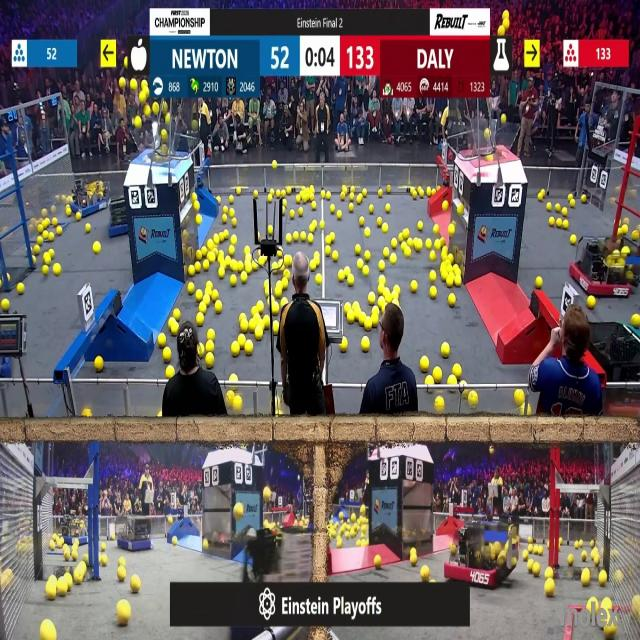ball_airborne: (264, 488, 272, 502), (139, 92, 147, 105), (135, 115, 142, 127), (162, 144, 168, 157), (144, 105, 151, 116), (118, 78, 125, 88), (152, 103, 158, 114), (132, 79, 138, 89), (500, 116, 506, 126), (498, 27, 504, 37), (502, 20, 508, 30), (502, 10, 508, 19), (163, 130, 168, 140), (484, 130, 490, 138), (489, 448, 494, 456), (487, 154, 493, 160), (164, 116, 168, 124), (498, 479, 502, 486)
ball_ground: (116, 602, 130, 626), (41, 621, 55, 640), (544, 581, 554, 598), (46, 584, 56, 601), (604, 625, 615, 640), (515, 390, 525, 405), (58, 583, 68, 597), (442, 343, 451, 358), (434, 397, 443, 412), (235, 503, 244, 518), (132, 578, 140, 594), (468, 393, 477, 407), (421, 356, 429, 371), (583, 570, 591, 585), (74, 570, 83, 583), (96, 356, 104, 370), (361, 338, 369, 352), (164, 348, 172, 362), (206, 353, 214, 367), (598, 571, 606, 585), (245, 342, 253, 356), (230, 261, 238, 275), (411, 550, 418, 565), (214, 302, 222, 315), (588, 295, 596, 308), (1, 300, 9, 313), (454, 363, 462, 376), (170, 321, 178, 334), (432, 366, 440, 379), (421, 566, 429, 579), (632, 314, 640, 327), (233, 343, 240, 357), (342, 339, 349, 353), (235, 396, 242, 410), (367, 292, 375, 304), (347, 312, 355, 324), (264, 316, 272, 328), (357, 312, 365, 324), (160, 335, 167, 348), (255, 326, 262, 339), (364, 318, 371, 331), (449, 376, 458, 386), (544, 567, 552, 578), (206, 342, 214, 353), (272, 304, 280, 315), (275, 286, 283, 297), (363, 250, 371, 261), (449, 293, 456, 305), (375, 556, 382, 568), (167, 365, 174, 377), (173, 309, 180, 321), (257, 302, 264, 314), (429, 286, 436, 298), (203, 538, 210, 550), (187, 266, 194, 278), (241, 320, 248, 332), (198, 314, 205, 326), (117, 568, 124, 580), (415, 240, 422, 252), (212, 289, 219, 301), (273, 322, 280, 334), (532, 564, 539, 576), (218, 253, 225, 265), (454, 277, 462, 287), (426, 376, 434, 386), (402, 247, 410, 257), (82, 410, 90, 420), (208, 252, 216, 262), (527, 560, 533, 573), (16, 283, 23, 294), (42, 266, 49, 277), (55, 266, 62, 277), (43, 253, 50, 264), (238, 262, 245, 273), (379, 294, 386, 305), (65, 550, 72, 561), (204, 291, 211, 302), (71, 550, 78, 561), (412, 280, 418, 292), (95, 242, 101, 254), (197, 290, 203, 302), (238, 336, 246, 345), (535, 278, 542, 288), (355, 245, 362, 255), (426, 240, 433, 250), (218, 268, 225, 278), (339, 272, 346, 282), (203, 262, 210, 272), (200, 304, 207, 314), (331, 250, 338, 260), (187, 283, 194, 293), (537, 190, 544, 200), (379, 275, 386, 285), (101, 556, 108, 566), (370, 304, 377, 314), (208, 328, 214, 339), (242, 273, 248, 284), (362, 266, 368, 277), (450, 223, 456, 234), (232, 276, 238, 287), (284, 254, 290, 265), (259, 255, 265, 266), (404, 228, 410, 239), (448, 276, 454, 287), (602, 598, 608, 609), (248, 320, 254, 331), (393, 285, 400, 294), (324, 247, 331, 256), (556, 218, 563, 227), (273, 263, 280, 272), (593, 556, 600, 565), (212, 235, 219, 244), (622, 224, 629, 233), (380, 262, 386, 272), (308, 234, 314, 244), (348, 276, 354, 286), (316, 275, 322, 285), (194, 214, 200, 224), (429, 272, 435, 282), (390, 254, 396, 264), (570, 236, 576, 246), (194, 264, 200, 274), (252, 263, 258, 273), (286, 234, 292, 244), (310, 262, 316, 272), (195, 250, 201, 260), (357, 261, 363, 271), (434, 240, 440, 250), (227, 246, 233, 256), (252, 306, 258, 316), (283, 270, 289, 280), (34, 245, 40, 255), (588, 602, 594, 612), (526, 408, 532, 418), (537, 544, 543, 554), (208, 240, 214, 250), (579, 552, 585, 562), (386, 293, 392, 303), (378, 286, 385, 294), (244, 246, 251, 254), (407, 240, 414, 248), (444, 201, 449, 212), (202, 248, 207, 259), (418, 221, 424, 230), (299, 233, 305, 242), (391, 240, 397, 249), (545, 203, 551, 212), (562, 219, 568, 228), (282, 280, 288, 289), (118, 558, 124, 567), (430, 251, 436, 260), (382, 223, 388, 232), (547, 217, 553, 226), (345, 267, 351, 276), (66, 207, 72, 216), (442, 272, 448, 281), (224, 256, 230, 265), (193, 202, 199, 211), (426, 187, 432, 196), (454, 266, 460, 275), (48, 233, 54, 242), (269, 224, 274, 234), (568, 555, 573, 565), (329, 234, 334, 244), (85, 222, 90, 232), (311, 221, 316, 231), (458, 204, 463, 214), (360, 504, 365, 514), (293, 231, 298, 241), (240, 313, 247, 320), (232, 375, 238, 383), (353, 303, 359, 311), (276, 250, 282, 258), (100, 542, 106, 550), (562, 208, 568, 216), (57, 226, 63, 234), (221, 214, 227, 222), (412, 190, 418, 198), (523, 552, 529, 560), (222, 231, 228, 239), (419, 188, 425, 196), (442, 252, 448, 260), (252, 190, 258, 198), (229, 208, 235, 216), (325, 191, 331, 199), (206, 281, 212, 289), (384, 287, 390, 295), (276, 189, 282, 197), (361, 538, 367, 546), (384, 248, 389, 257), (359, 217, 364, 226), (345, 304, 350, 313), (289, 210, 294, 219), (368, 205, 373, 214), (364, 229, 369, 238), (269, 193, 274, 202), (83, 554, 88, 563), (232, 237, 237, 246), (357, 197, 362, 206), (449, 254, 454, 263), (521, 409, 526, 418), (556, 205, 562, 212), (348, 205, 354, 212), (341, 192, 347, 199), (173, 536, 178, 544), (266, 288, 271, 296), (338, 210, 342, 220), (312, 202, 317, 210), (233, 218, 238, 226), (265, 280, 270, 288), (379, 188, 384, 196), (580, 197, 585, 205), (362, 188, 367, 196), (222, 207, 227, 215), (51, 217, 56, 225), (237, 187, 242, 195), (574, 540, 579, 548), (578, 540, 583, 548), (378, 217, 382, 226), (76, 212, 80, 221), (316, 257, 320, 266), (314, 252, 320, 258), (110, 534, 116, 540), (329, 206, 334, 213), (338, 540, 343, 547), (282, 200, 287, 207), (356, 539, 361, 546), (386, 185, 391, 192), (281, 208, 286, 215), (434, 224, 438, 232), (320, 220, 324, 228), (298, 208, 302, 216), (386, 205, 390, 213), (570, 200, 574, 208), (228, 197, 232, 205), (32, 256, 36, 264), (321, 190, 325, 198), (568, 192, 572, 200), (295, 194, 299, 202), (169, 517, 173, 525), (528, 544, 532, 552), (559, 538, 564, 544), (216, 195, 220, 202), (7, 274, 11, 281), (430, 578, 436, 582), (256, 249, 260, 255)
goal: (466, 123, 520, 159), (128, 130, 189, 161)
robot_blue: (72, 176, 110, 216), (116, 516, 154, 551), (107, 200, 130, 238), (61, 518, 89, 546)
robot_red: (448, 519, 514, 589), (596, 319, 640, 415), (578, 237, 636, 298)
